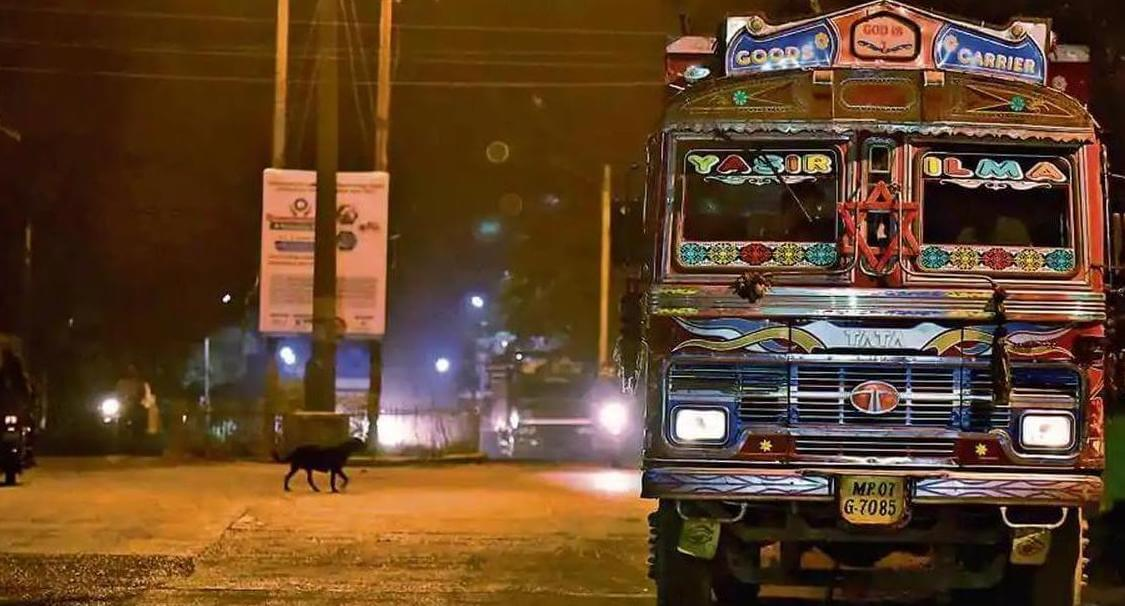truck: (646, 36, 1103, 606), (492, 355, 595, 458)
